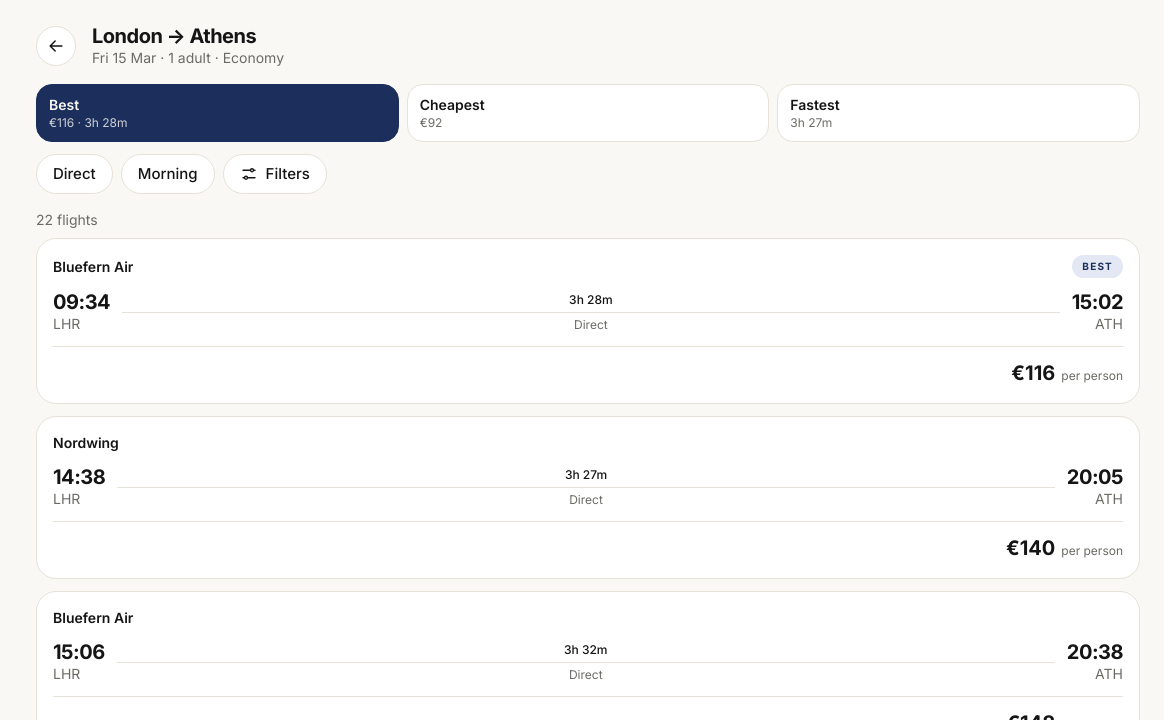
Test: ResultsPage › reorders when another sort tab is chosen and keeps it in the URL
The width and height of the screenshot is (1164, 720).
Step 1. Click the button "Cheapest €92" → (452, 104), box x1=407 y1=84 x2=769 y2=142
(page scrolled)
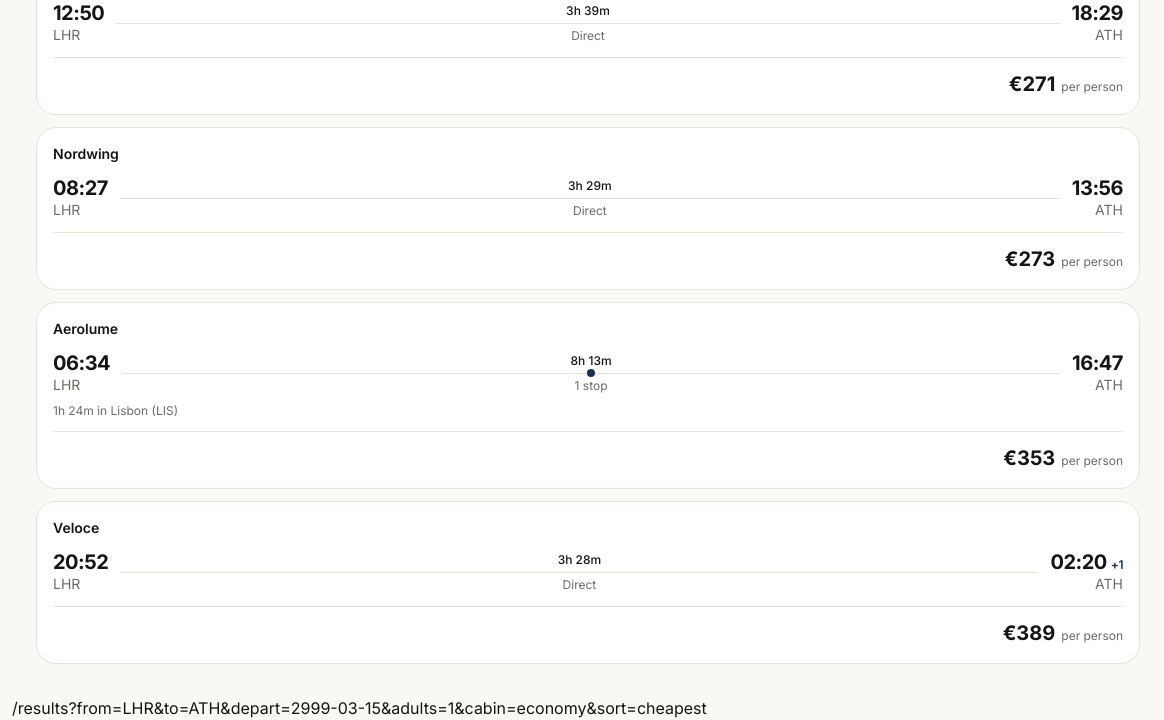
Expected: the text with test id "where" shows "sort=cheapest", x1=12 y1=698 x2=707 y2=718
